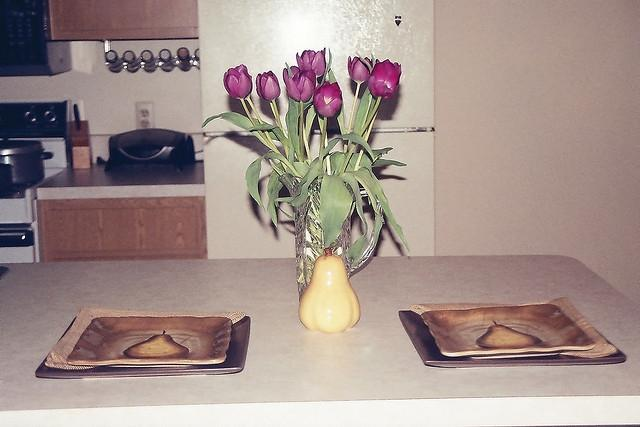pear: (298, 248, 361, 334), (476, 320, 542, 349), (123, 330, 189, 358)
